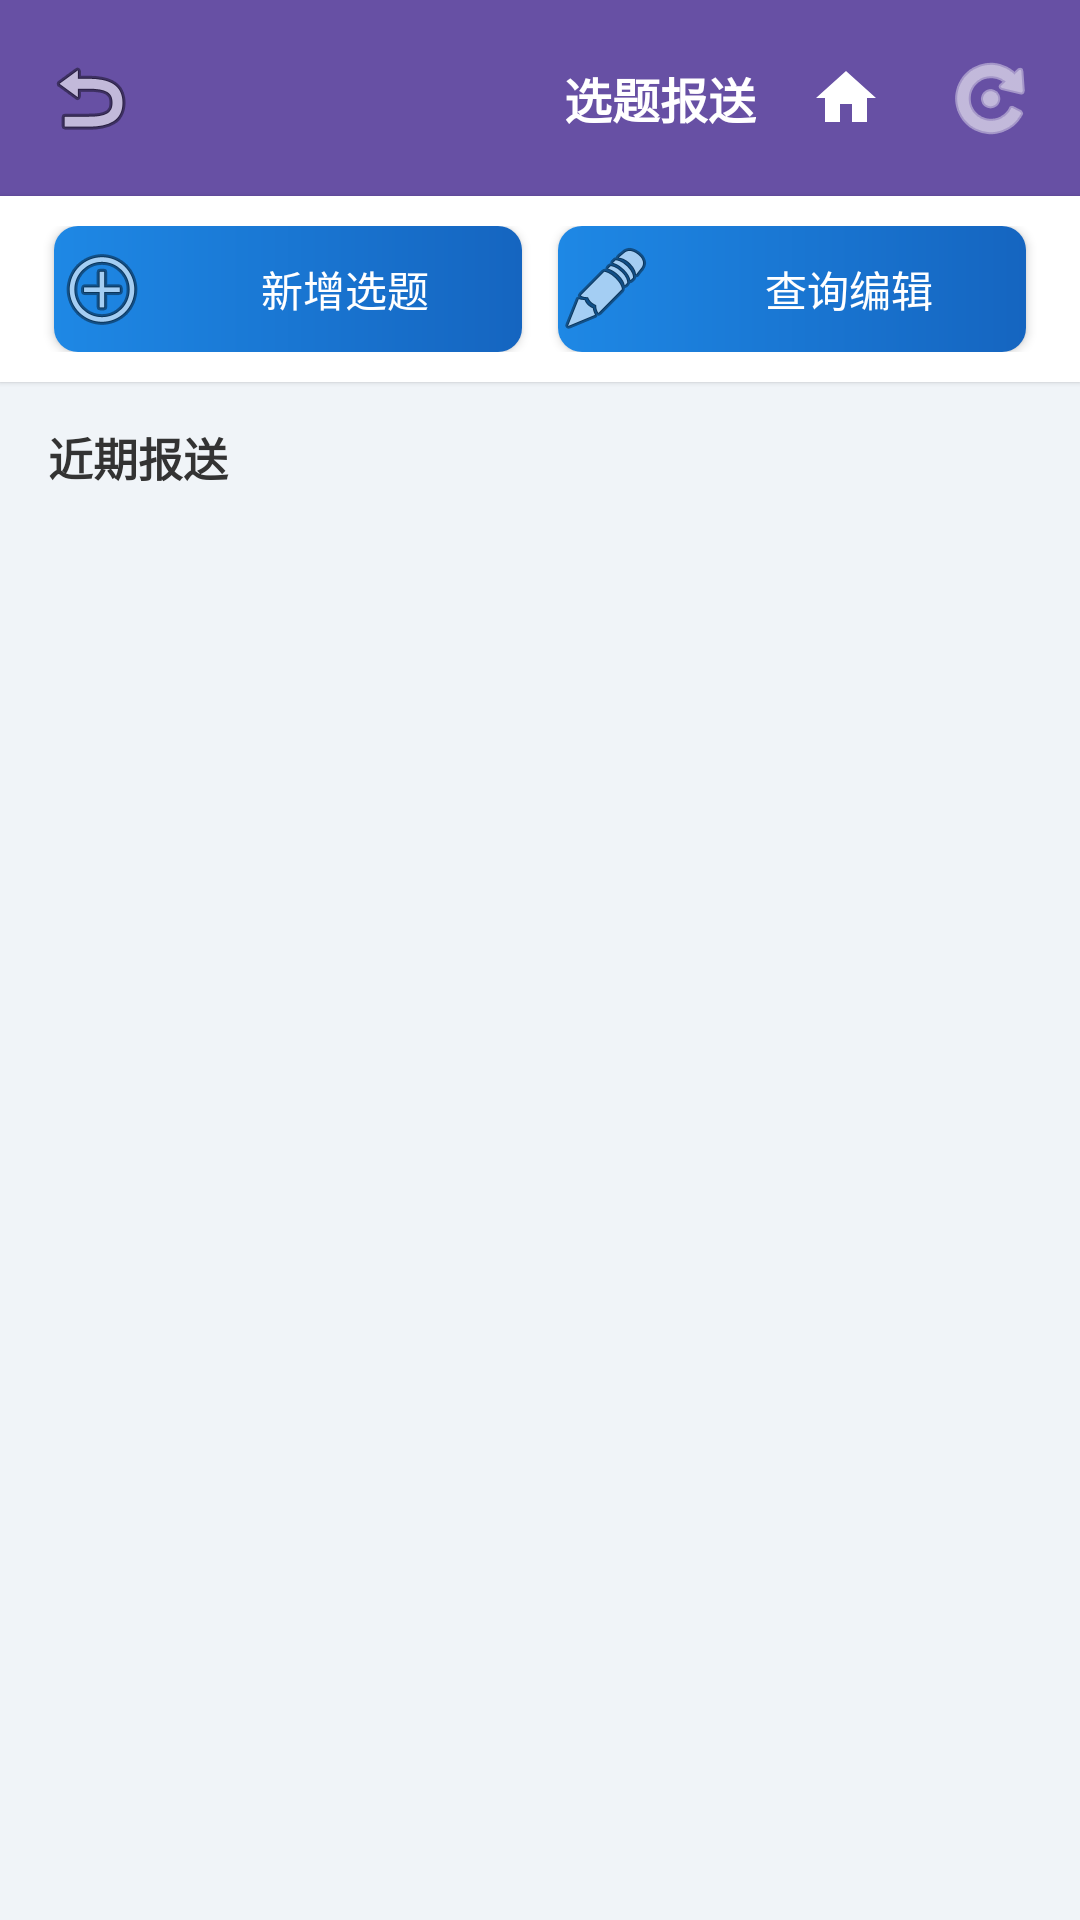

Icons on this 1080px x 1920px Android screen, each with the point to tap as point (x, y):
主页面: point (846, 96)
刷新: point (990, 98)
返回: point (91, 98)
